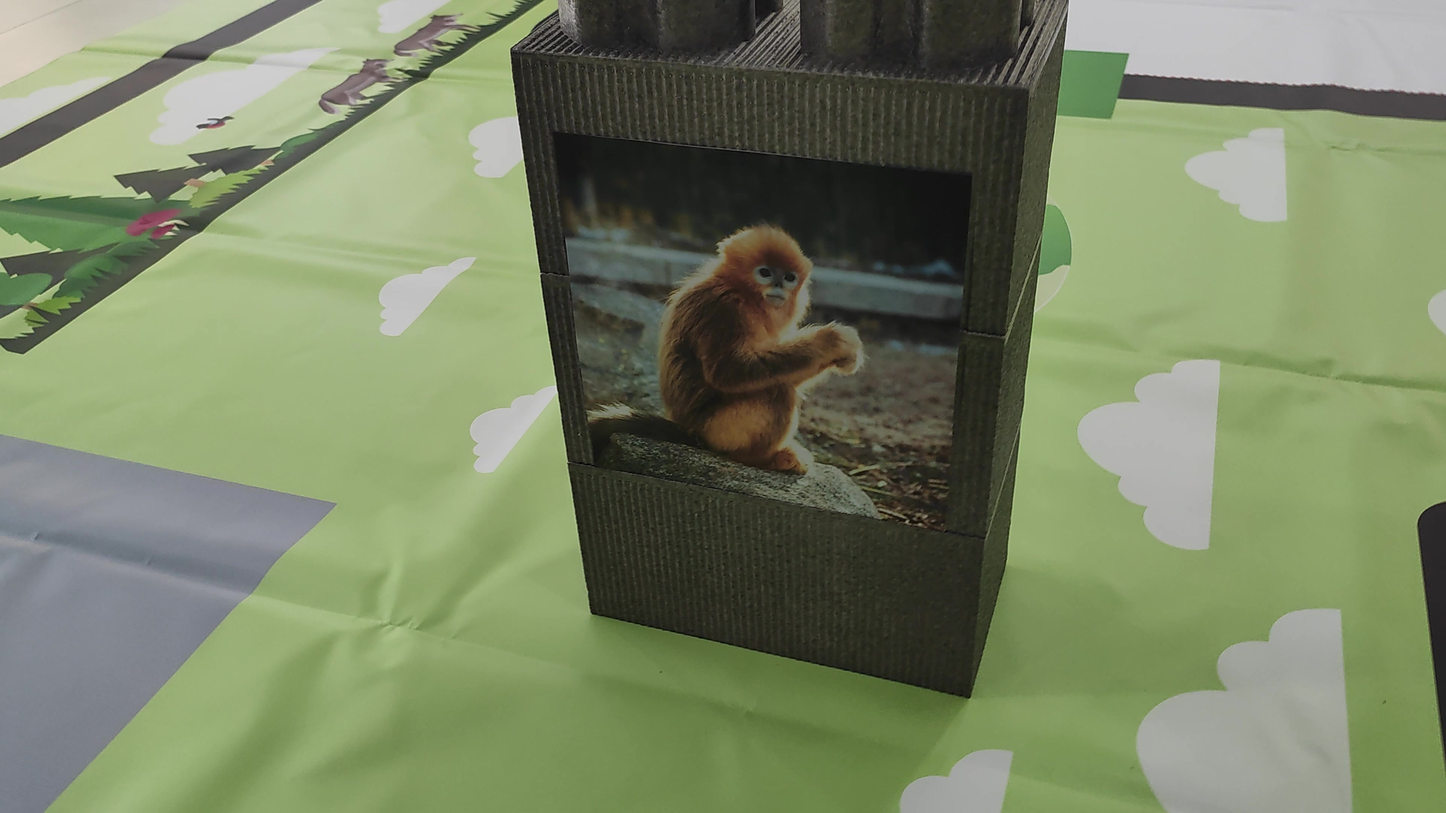monkey: (629, 210, 873, 472)
